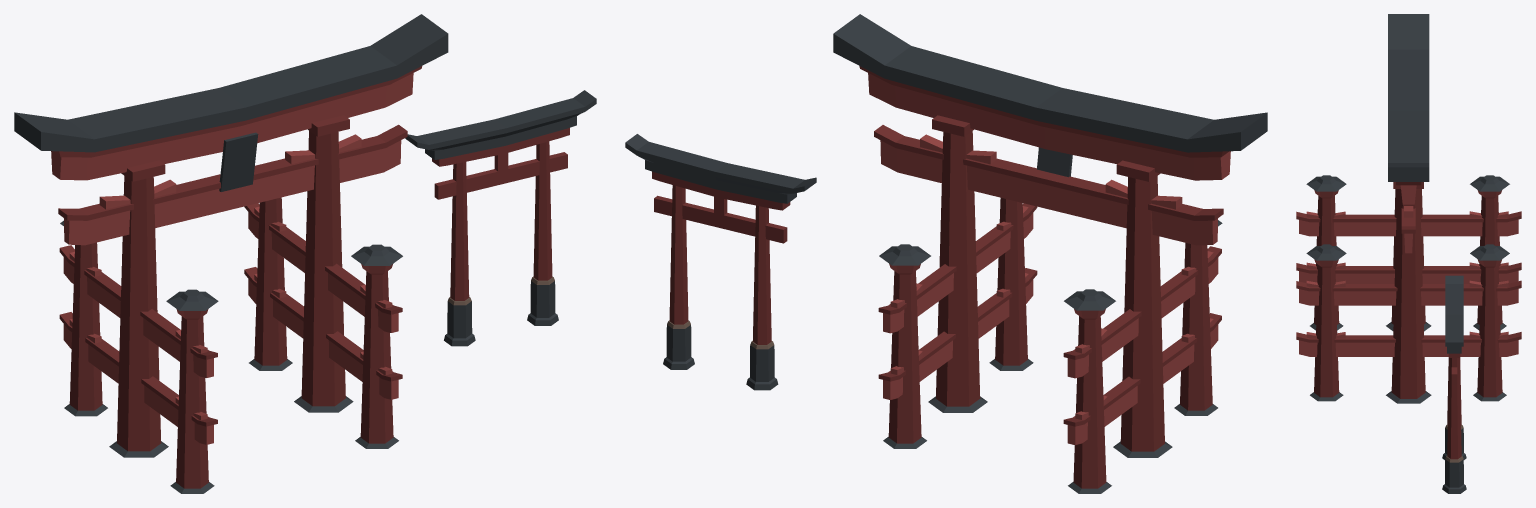
The model's file is japanese_gates_torii_low_poly.glb.
3 renders of one model, left to right at view 1: azimuth 30°, elevation 25°; view 2: azimuth 150°, elevation 25°; view 3: azimuth 270°, elevation 25°, orthographic. The views are drawn at different scales.
Parts seen in each view (by area): view 1: Cylinder.002, Cylinder; view 2: Cylinder.002, Cylinder; view 3: Cylinder.002, Cylinder.
Boxes of the visible parts, left/top/right/bottom form: Cylinder.002: left=14, top=14, right=448, bottom=493; Cylinder: left=405, top=90, right=596, bottom=346; Cylinder.002: left=833, top=14, right=1267, bottom=493; Cylinder: left=625, top=134, right=816, bottom=390; Cylinder.002: left=1296, top=14, right=1521, bottom=403; Cylinder: left=1442, top=275, right=1466, bottom=493.
Bounding box in the file's own units: 22.82 × 12.98 × 9.78.
